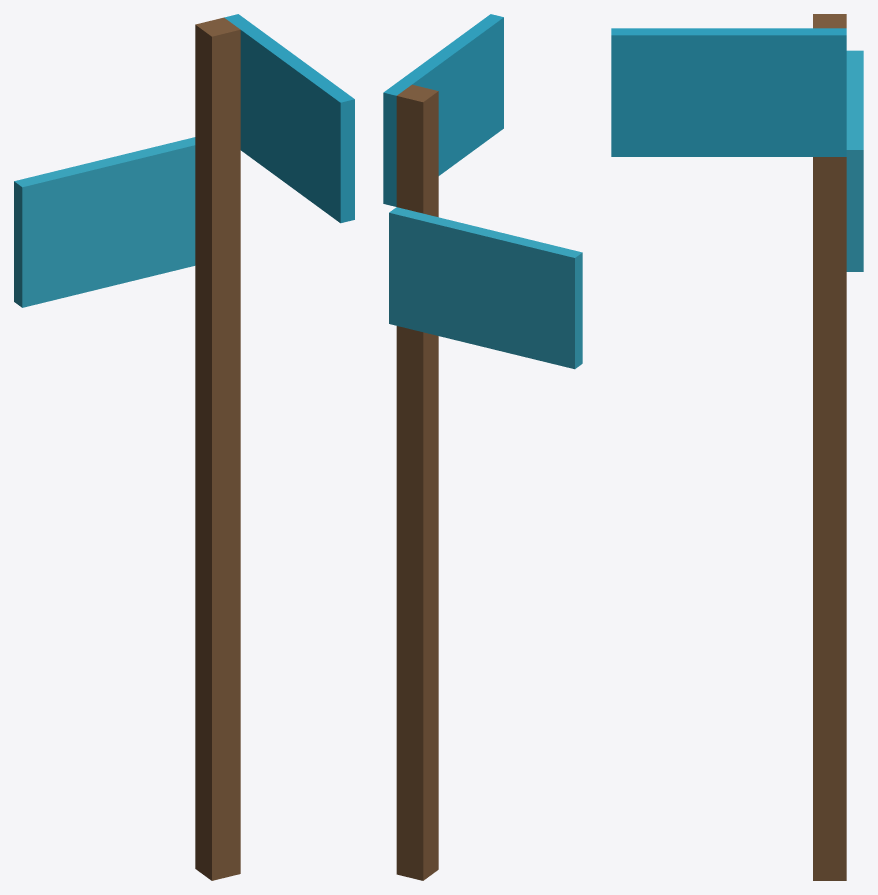
File: streetsSign.fbx
3 views of the same model, side by side, from view 1: azimuth 30°, elevation 25°; view 2: azimuth 150°, elevation 25°; view 3: azimuth 270°, elevation 25° (orthographic). The views are drawn at different scales.
Parts seen in each view (by area): view 1: streetsSign, sign2, sign1; view 2: streetsSign, sign2, sign1; view 3: sign1, streetsSign, sign2.
Part boxes in pixels (x1=…): streetsSign: x1=195, y1=17, x2=240, y2=880; sign2: x1=14, y1=137, x2=195, y2=307; sign1: x1=224, y1=14, x2=354, y2=223; streetsSign: x1=396, y1=84, x2=438, y2=880; sign2: x1=389, y1=207, x2=582, y2=369; sign1: x1=383, y1=14, x2=503, y2=206; sign1: x1=611, y1=28, x2=846, y2=156; streetsSign: x1=813, y1=14, x2=846, y2=880; sign2: x1=846, y1=50, x2=863, y2=271.
Bounding box in the file's own units: 188 × 700 × 188.
